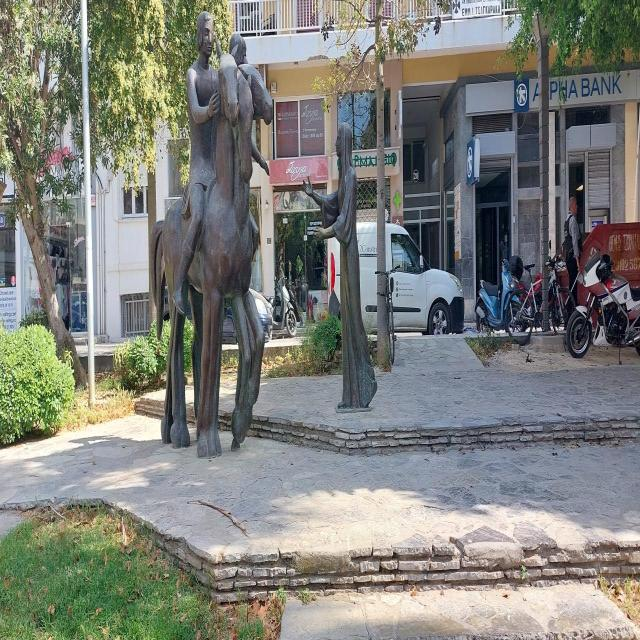Aretousa: (150, 12, 379, 459)
